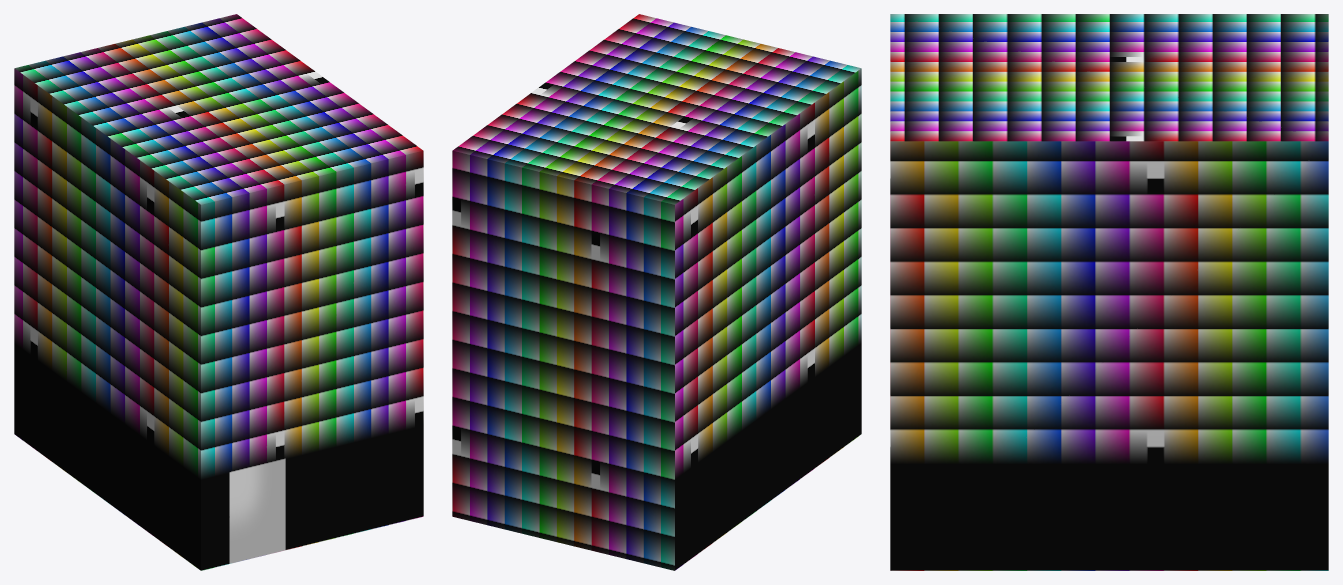
Rendered from door_5.fbx.
3 views of the same model, side by side, from view 1: azimuth 30°, elevation 25°; view 2: azimuth 150°, elevation 25°; view 3: azimuth 270°, elevation 25° (orthographic). The views are drawn at different scales.
Parts seen in each view (by area): view 1: door_4_trigger; view 2: door_4_trigger; view 3: door_4_trigger.
Boxes of the visible parts, x1=… form: door_4_trigger: x1=14, y1=14, x2=423, y2=570; door_4_trigger: x1=452, y1=14, x2=861, y2=570; door_4_trigger: x1=890, y1=14, x2=1328, y2=570.
Size of what is drawn, in the model's own units: 191 by 300 by 277.
